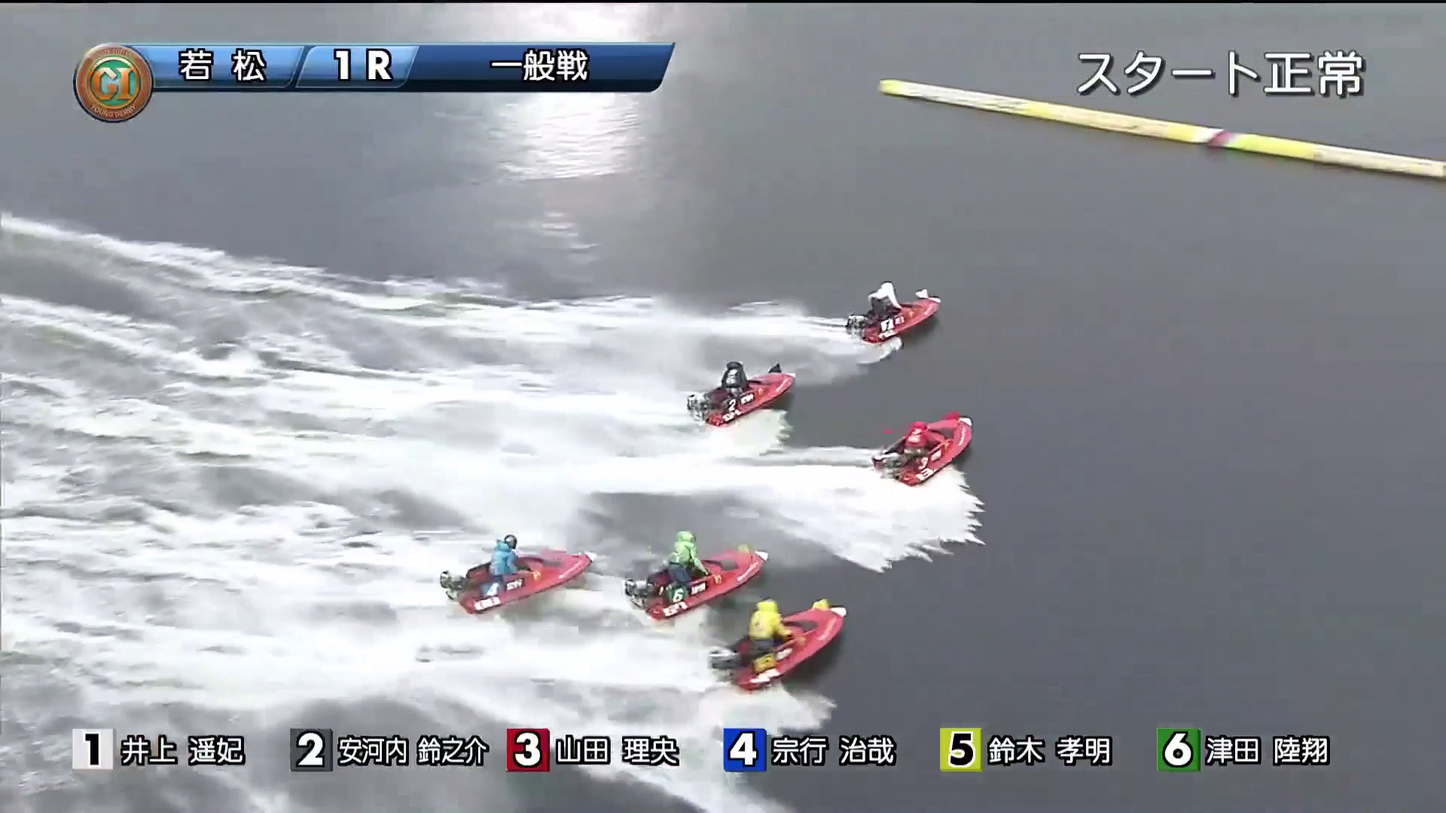１号艇: (853, 282, 990, 335)
２号艇: (677, 354, 806, 414)
３号艇: (874, 423, 1014, 469)
４号艇: (631, 533, 759, 599)
５号艇: (432, 544, 556, 599)
６号艇: (731, 607, 831, 664)
